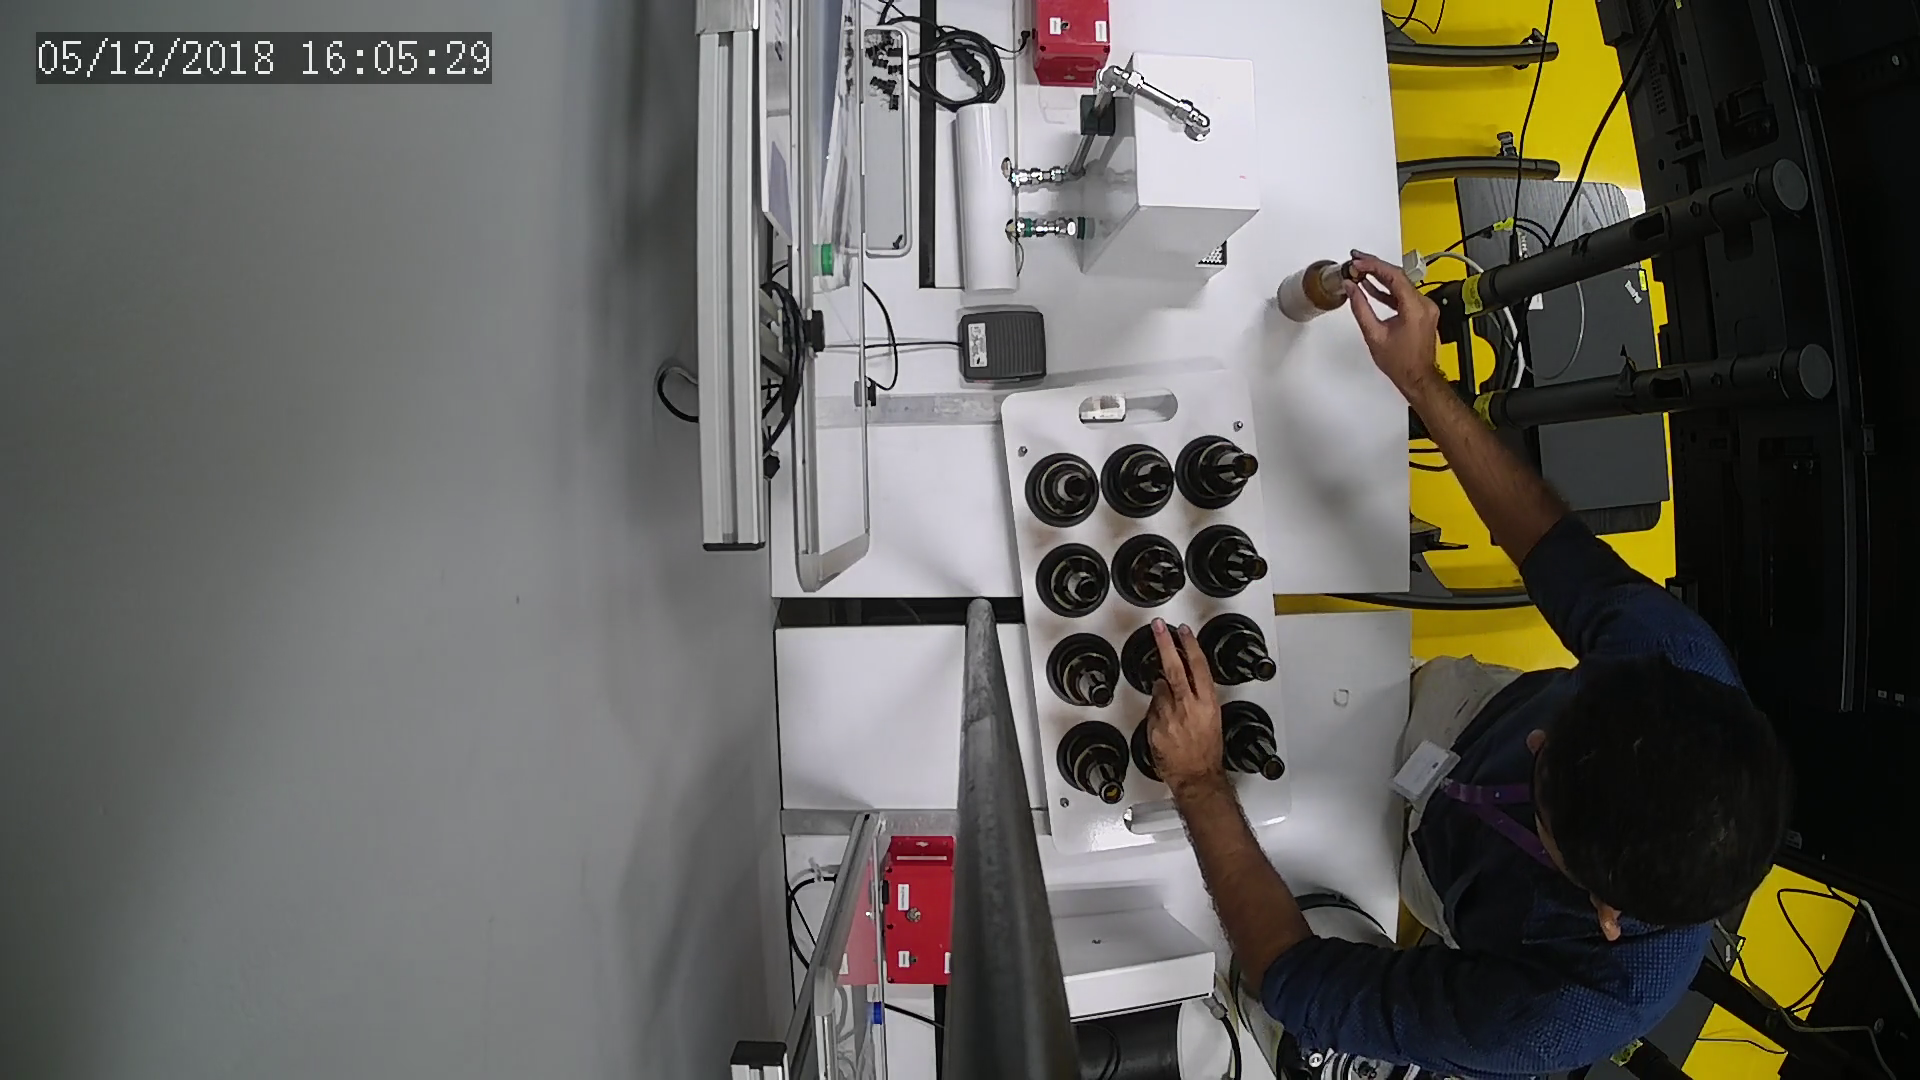filled_bottle: (1051, 716, 1139, 811), (1168, 430, 1262, 516), (1179, 518, 1273, 603), (1216, 695, 1288, 786), (1201, 611, 1280, 691), (1112, 527, 1189, 609), (1029, 451, 1104, 535), (1036, 541, 1114, 620), (1051, 630, 1120, 715), (1101, 440, 1174, 516)
trolley: (1001, 371, 1303, 855)
unfilled_bottle: (1278, 257, 1370, 322)
